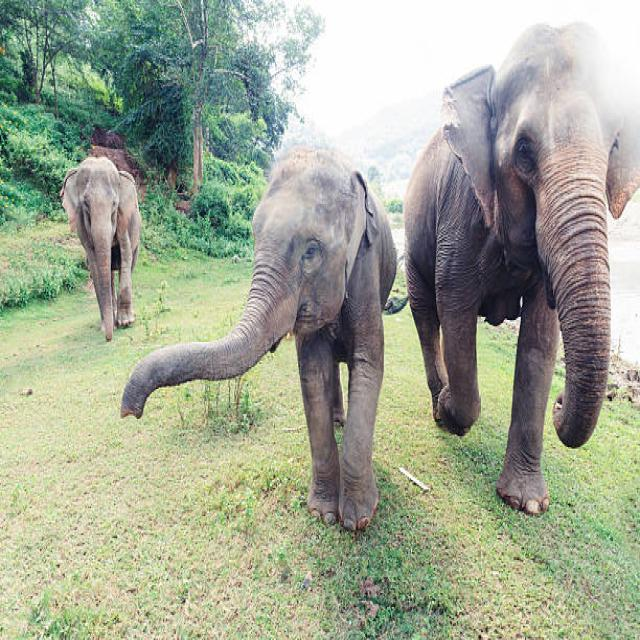Elephant: (412, 39, 628, 482), (163, 156, 401, 527), (53, 142, 144, 352)
